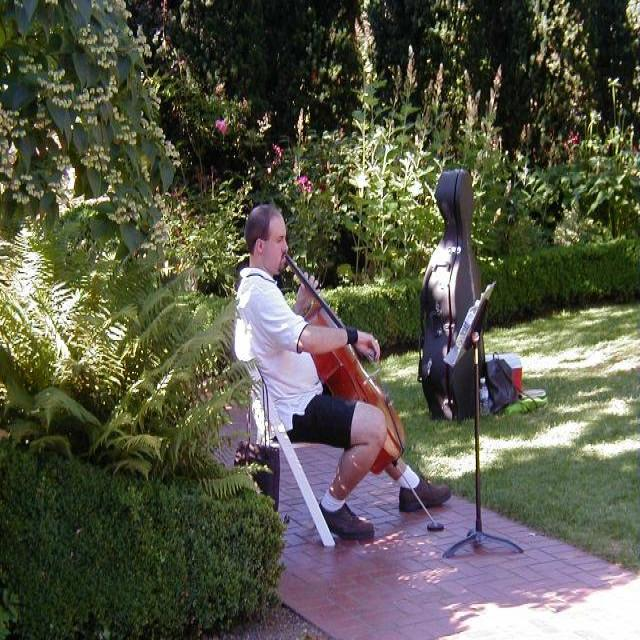cello: (283, 247, 408, 476)
